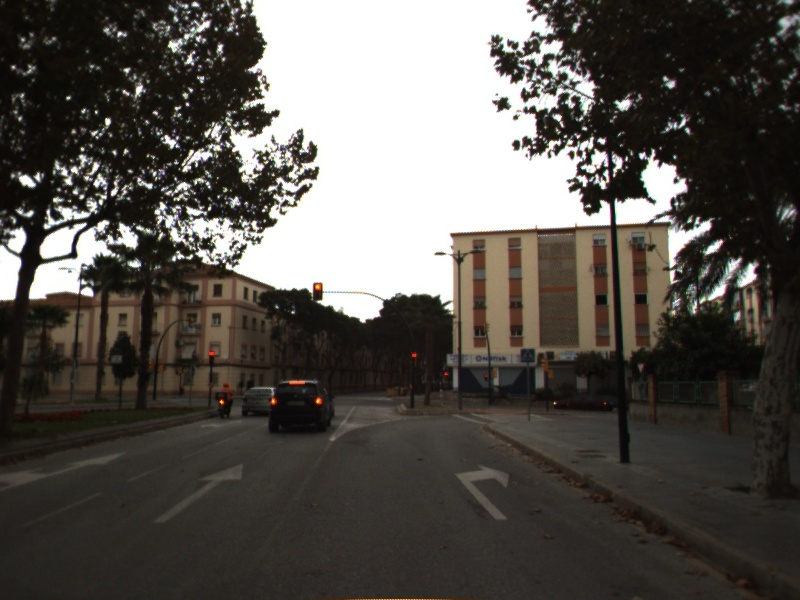RIGHT: (451, 459, 515, 523)
STRAIGHT: (150, 458, 247, 526)
STRAIGHT_LEFT: (1, 447, 131, 492)
